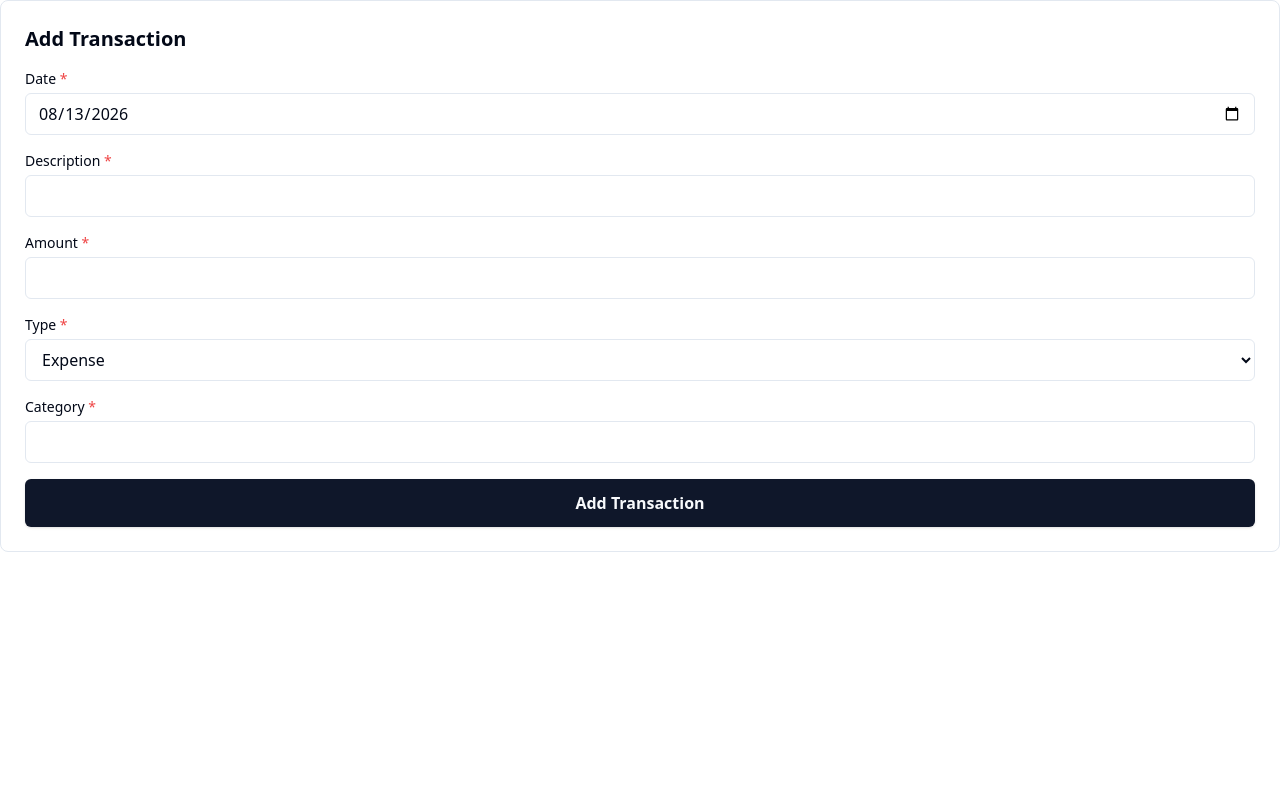
Test: TransactionForm › validates amount must be greater than zero
Type "0" into the number field labelled "Amount *" at (640, 278), box [25,257,1255,299]
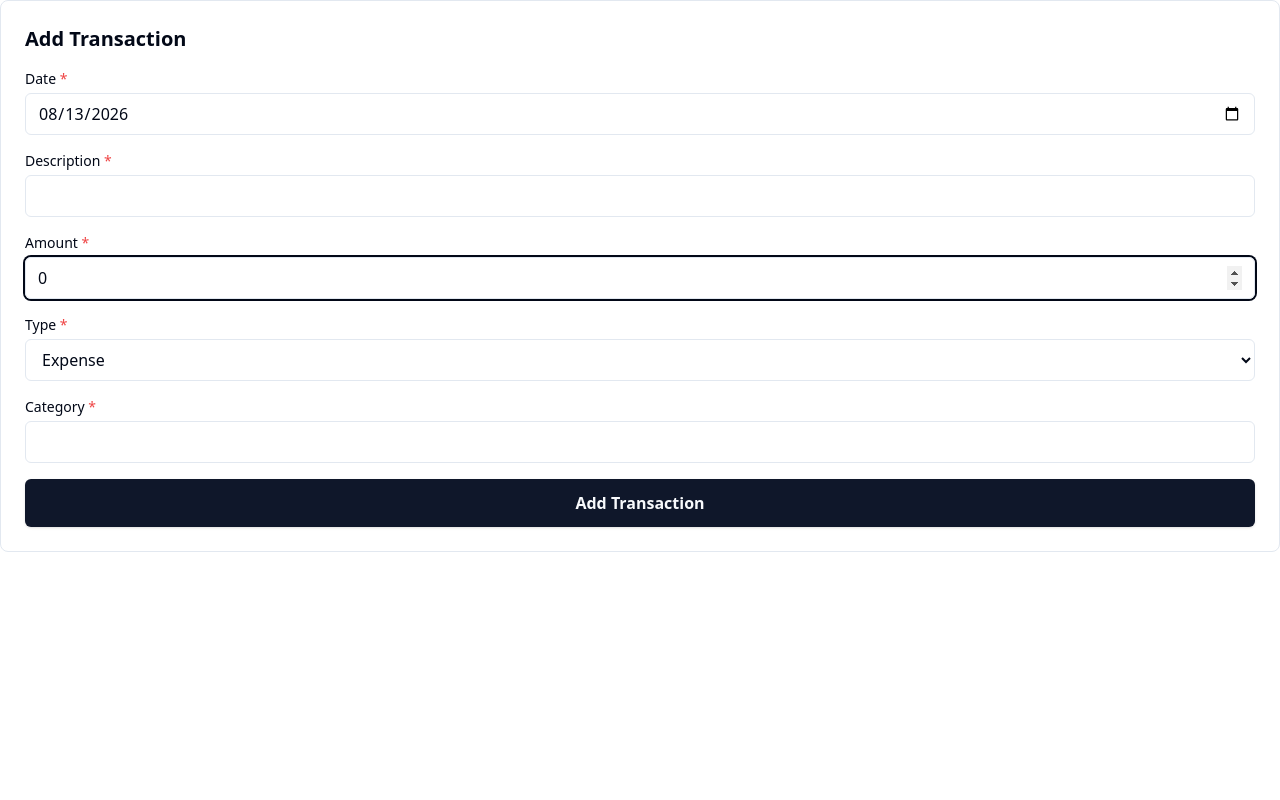
Click the button "Add Transaction" at (640, 503), box [25,479,1255,527]
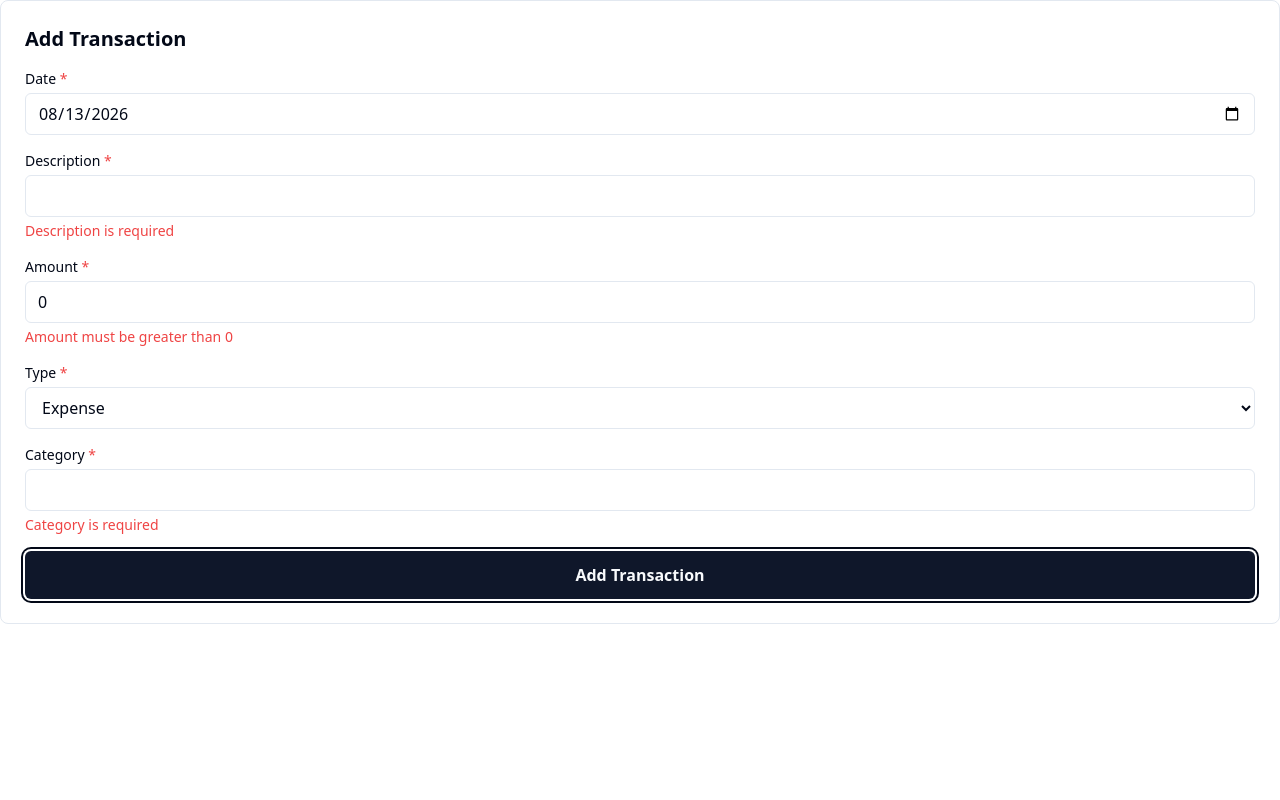
Expected: the text "Amount must be greater than 0" is shown, [25,327,233,346]
